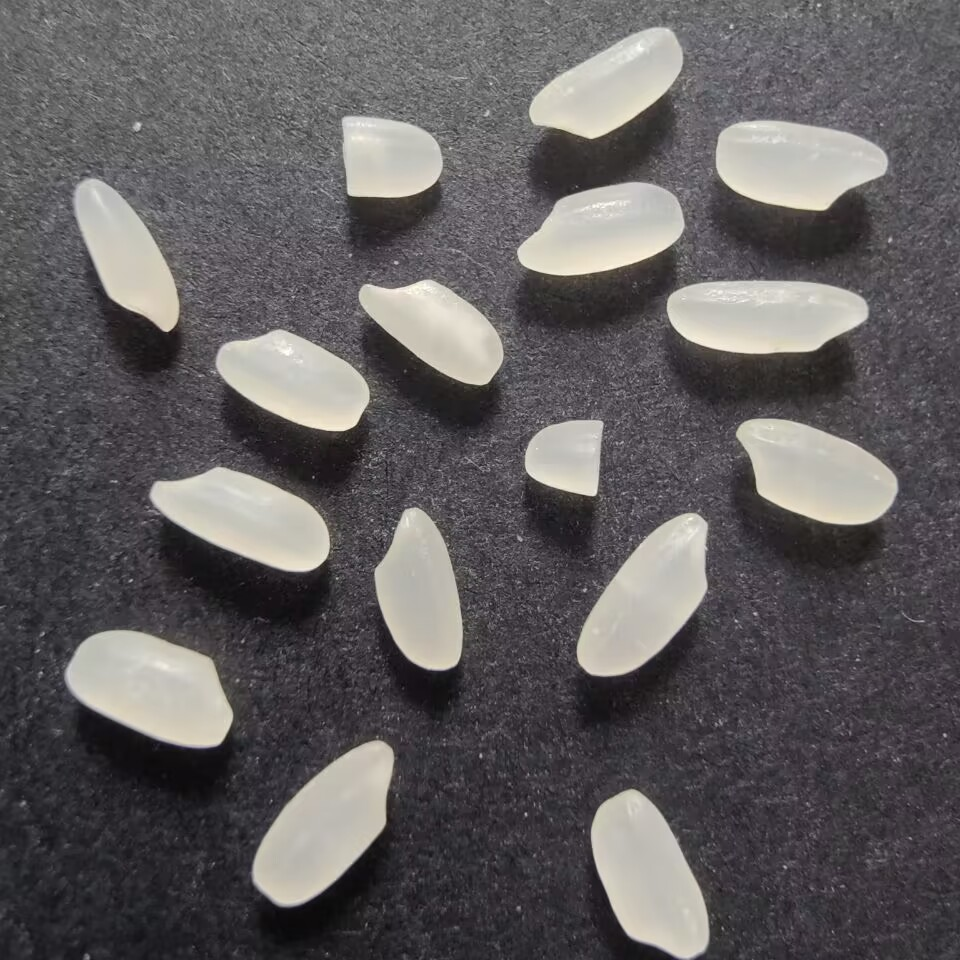broken: (330, 105, 445, 203), (516, 414, 612, 504)
rice: (246, 735, 399, 909), (568, 509, 716, 682), (582, 786, 715, 959), (143, 459, 340, 575), (58, 626, 237, 753), (519, 23, 691, 142), (731, 411, 903, 528), (346, 271, 512, 388), (68, 176, 186, 338), (205, 324, 371, 438), (509, 176, 690, 278), (706, 117, 894, 215), (364, 500, 466, 678), (662, 273, 871, 359)
